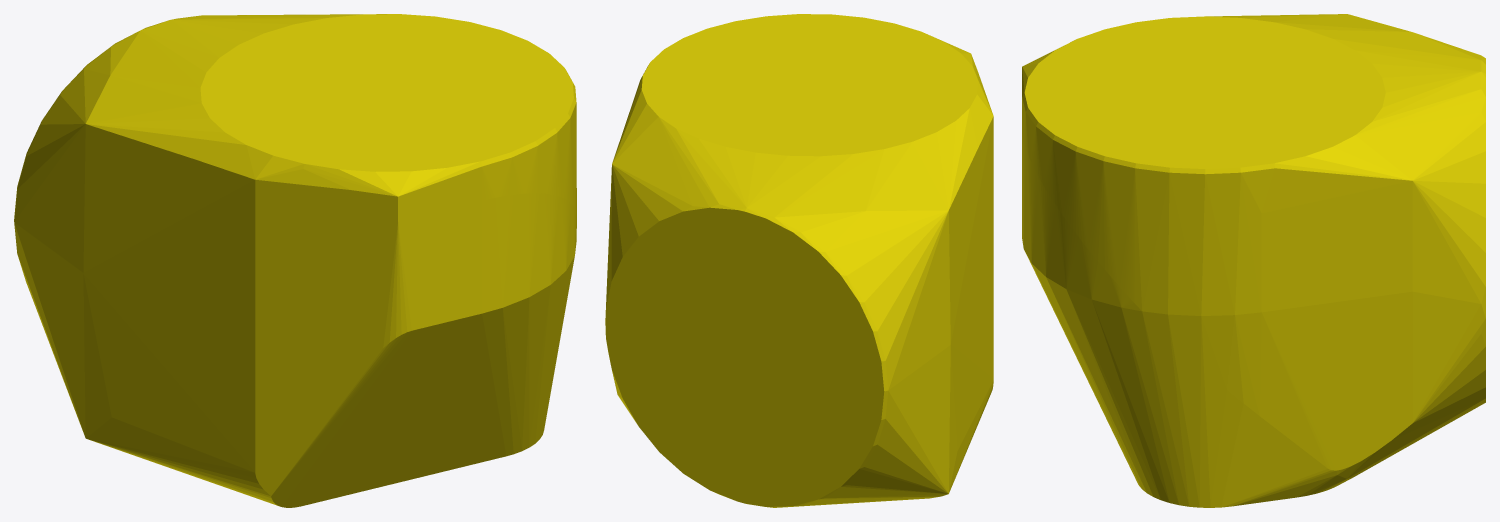
File: shoulder_link.dae
The picture shows the model from 3 angles, left to right: view 1: azimuth 30°, elevation 25°; view 2: azimuth 150°, elevation 25°; view 3: azimuth 270°, elevation 25°; orthographic projection. The views are drawn at different scales.
Visible parts, largest first — view 1: node; view 2: node; view 3: node.
Boxes of the visible parts, left/top/right/bottom form: node: left=14, top=14, right=576, bottom=507; node: left=605, top=14, right=993, bottom=507; node: left=1022, top=14, right=1485, bottom=507.
Bounding box in the file's own units: 0.54 × 0.468 × 0.57.
